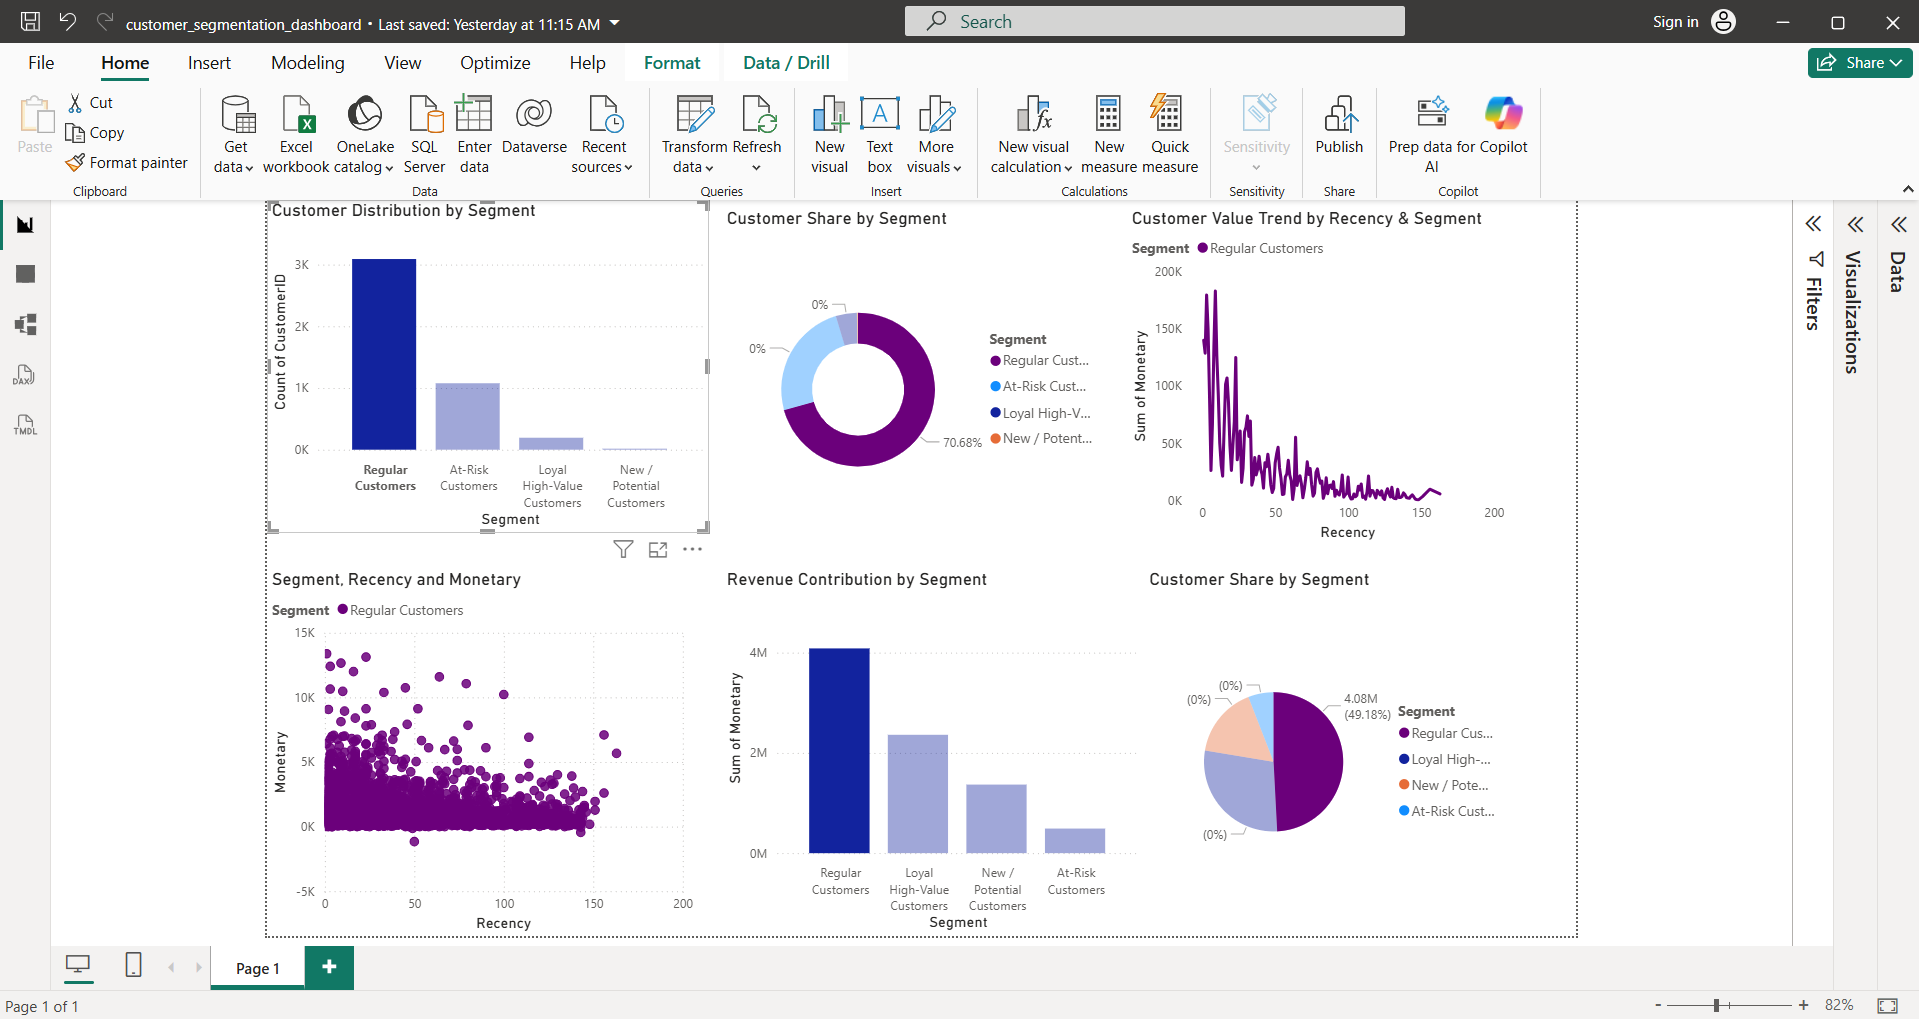

What the dashboard file says about the page in this screenshot:
{"tool":"powerbi","page":{"name":"Page 1","canvas":[1280,720],"ordinal":0},"visuals":[{"type":"columnChart","title":"Customer Distribution by Segment","fields":{"Category":["customer_segmentation_powerbi.Segment"],"Y":["CountNonNull(customer_segmentation_powerbi.CustomerID)"]},"box":[0,0,431.7,325.3],"z":0},{"type":"scatterChart","fields":{"X":["customer_segmentation_powerbi.Recency"],"Series":["customer_segmentation_powerbi.Segment"],"Y":["customer_segmentation_powerbi.Monetary"]},"box":[0,360.6,421.9,359.2],"z":1000},{"type":"columnChart","title":"Revenue Contribution by Segment ","fields":{"Category":["customer_segmentation_powerbi.Segment"],"Y":["Sum(customer_segmentation_powerbi.Monetary)"]},"box":[444.7,360.6,413.4,359.2],"z":2000},{"type":"donutChart","title":"Customer Share by Segment ","fields":{"Category":["customer_segmentation_powerbi.Segment"],"Y":["CountNonNull(customer_segmentation_powerbi.CustomerID)"]},"box":[432.2,13.7,376,337.6],"z":3000},{"type":"lineChart","title":"Customer Value Trend by Recency & Segment","fields":{"Category":["customer_segmentation_powerbi.Recency"],"Y":["Sum(customer_segmentation_powerbi.Monetary)"],"Series":["customer_segmentation_powerbi.Segment"]},"box":[841.3,13.5,374.2,324.1],"z":3001},{"type":"pieChart","title":"Customer Share by Segment","fields":{"Category":["customer_segmentation_powerbi.Segment"],"Y":["Sum(customer_segmentation_powerbi.Monetary)"]},"box":[858,361,358,359],"z":3002}]}

Visuals, with their boxes on the page's 1280x720 design canvas (x1, y1, x2, y2). These are canvas units, not pixel positions in the 1919x1019 screenshot, which may show the page scaled, cropped or inside an application window:
"Customer Distribution by Segment" columnChart: region(0, 0, 432, 325)
scatterChart - customer_segmentation_powerbi.Recency x customer_segmentation_powerbi.Segment: region(0, 361, 422, 720)
"Revenue Contribution by Segment " columnChart: region(445, 361, 858, 720)
"Customer Share by Segment " donutChart: region(432, 14, 808, 351)
"Customer Value Trend by Recency & Segment" lineChart: region(841, 14, 1216, 338)
"Customer Share by Segment" pieChart: region(858, 361, 1216, 720)
